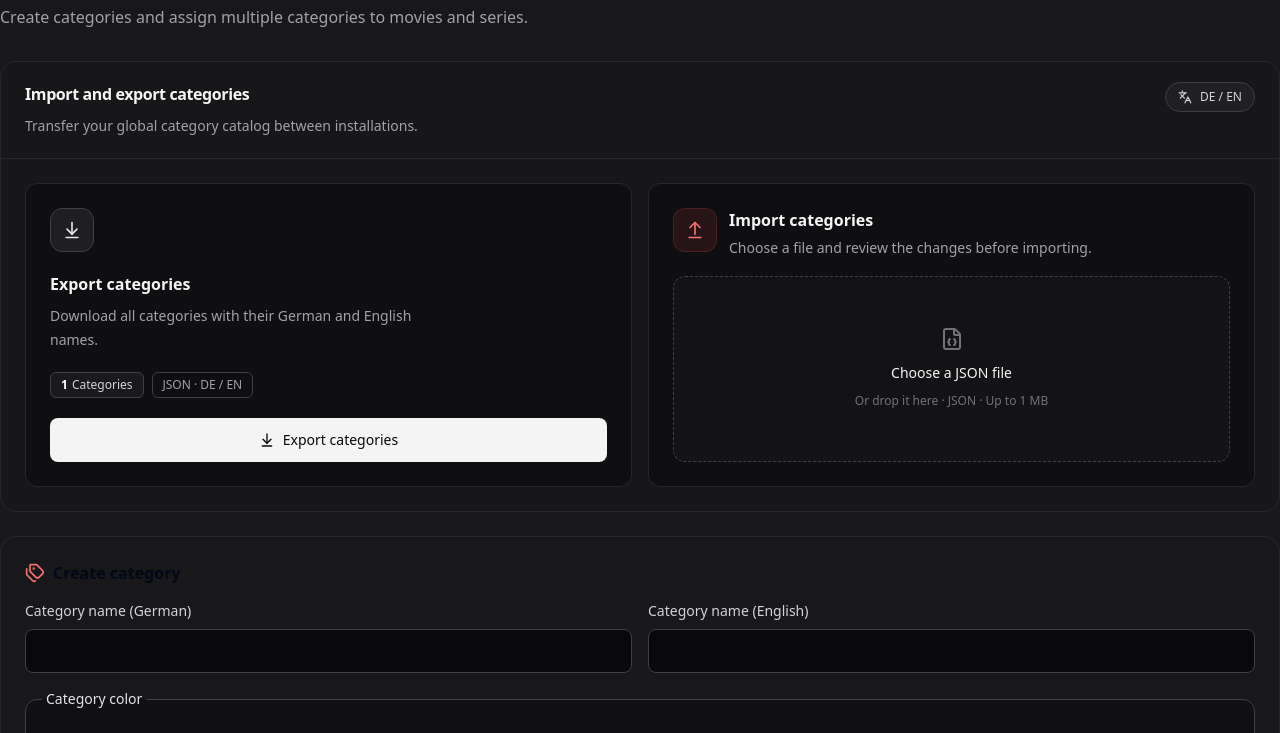
Test case: shows conflicts without clearing the entered category name
The image size is (1280, 733).
Step 1. Type "Documentary" into the field labelled "Category name (German)" → (328, 651), box x1=25 y1=629 x2=632 y2=673
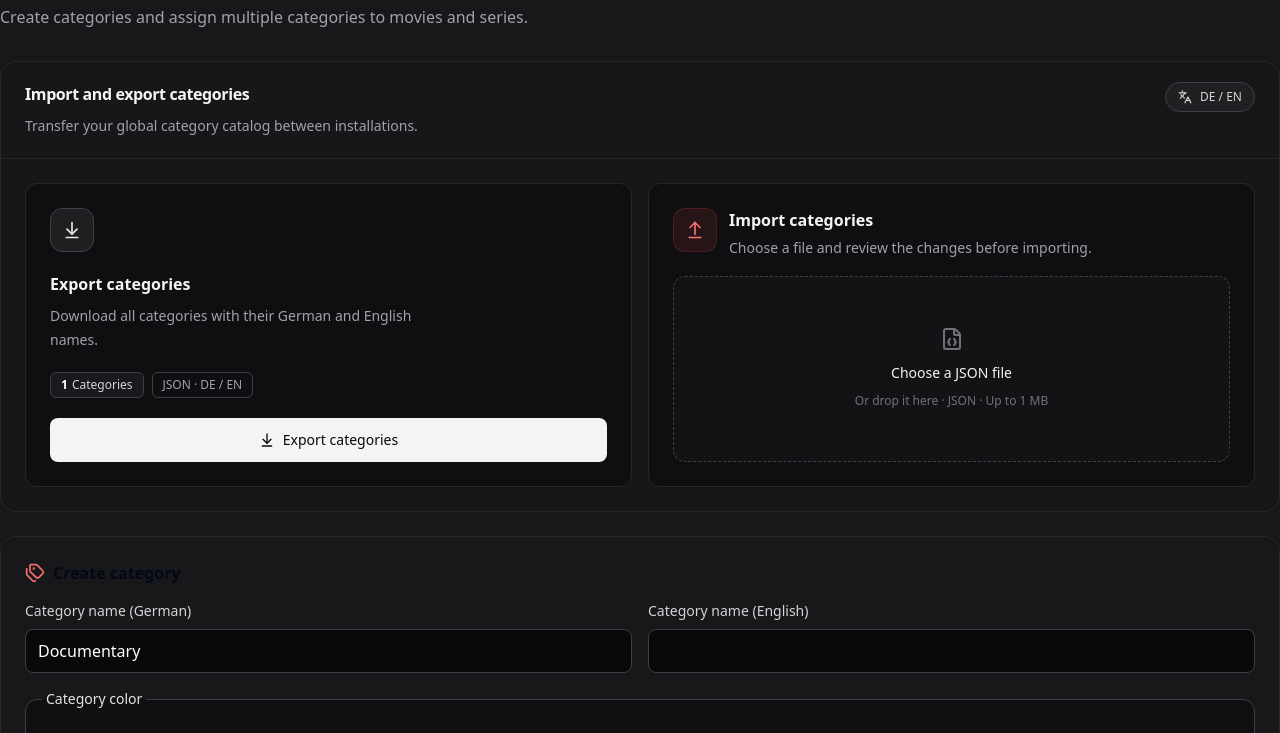
Step 2. Type "Documentary" into the field labelled "Category name (English)" → (952, 651), box x1=648 y1=629 x2=1255 y2=673
(page scrolled)
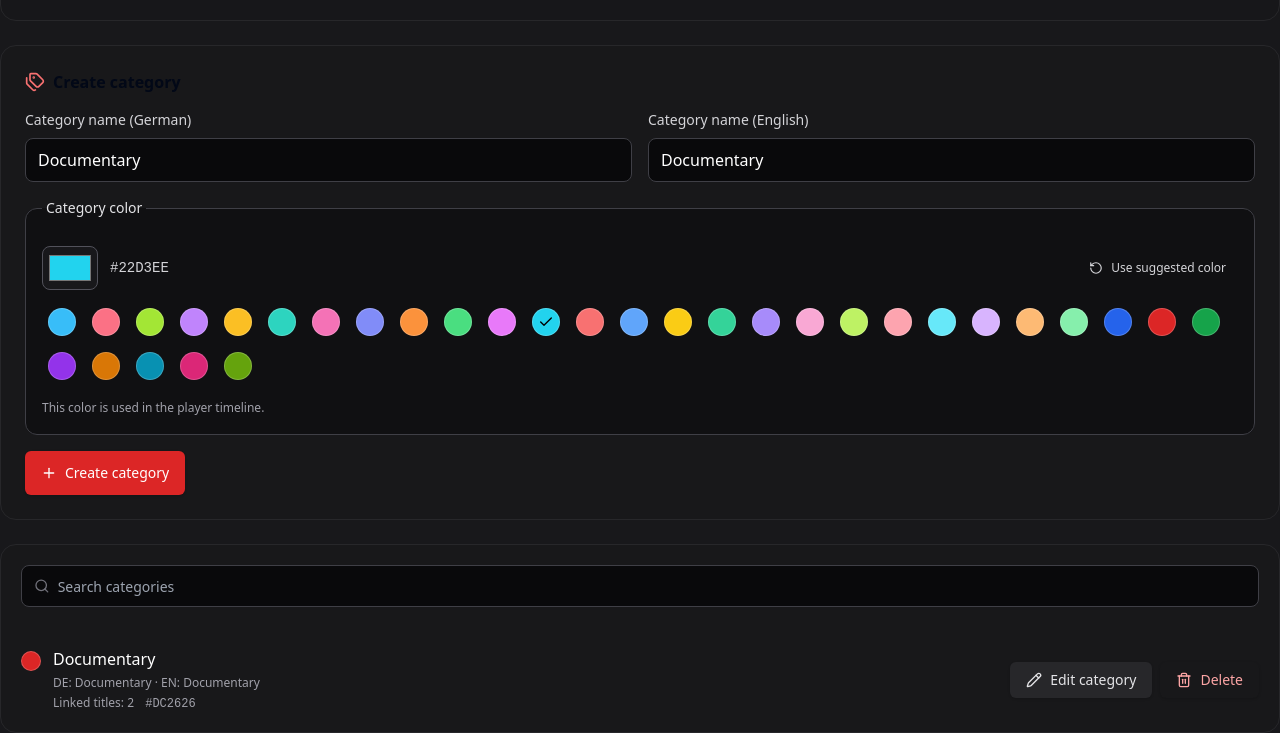
Step 3. Click the button "Create category" → (105, 473), box x1=25 y1=451 x2=185 y2=495
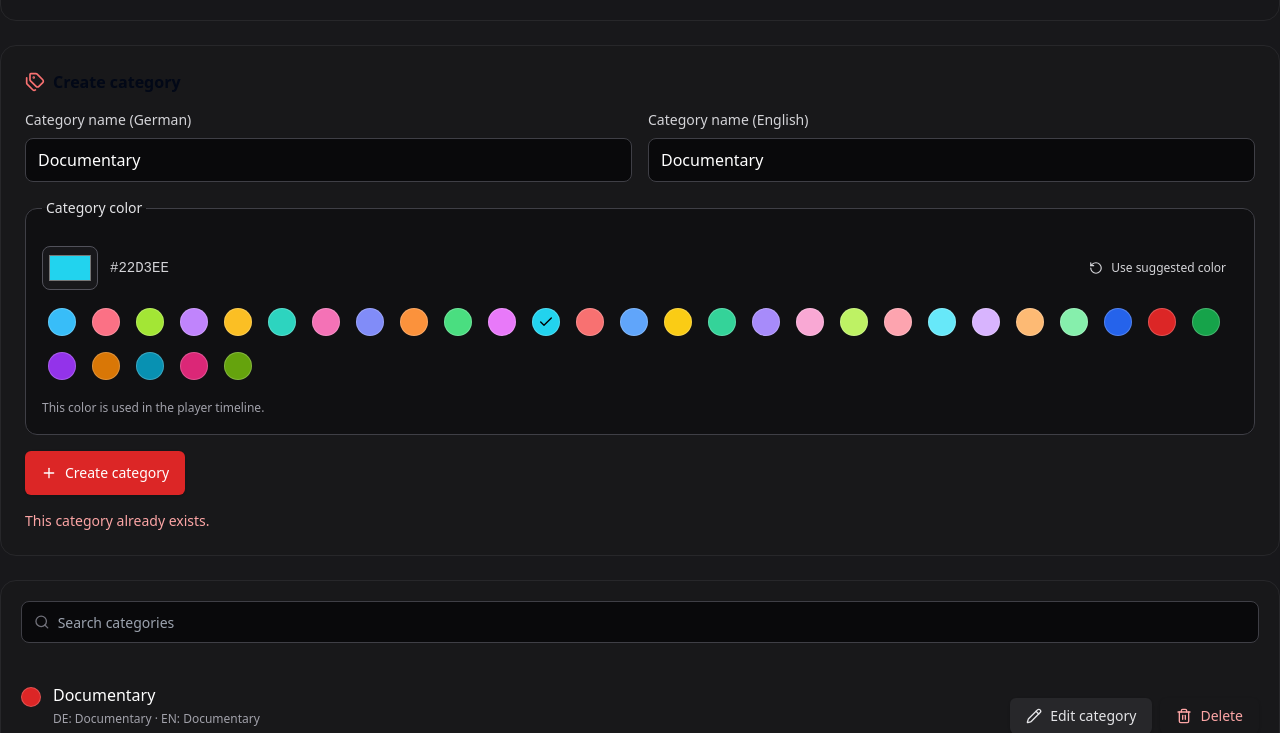
Result: the message reads "This category already exists." at x1=25 y1=511 x2=210 y2=530
